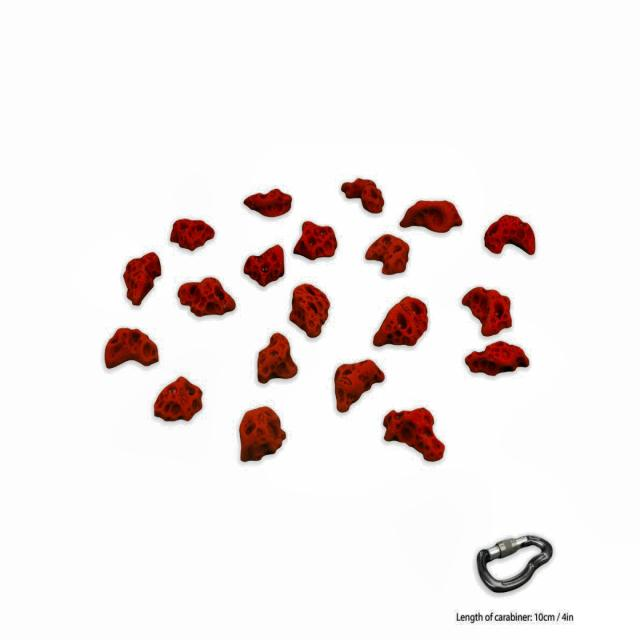Hold: (383, 402, 446, 462), (331, 356, 386, 415), (98, 327, 164, 376), (459, 284, 518, 337), (237, 400, 282, 467), (467, 336, 532, 380), (480, 213, 539, 260), (372, 296, 432, 342), (117, 250, 163, 310), (177, 269, 234, 317), (147, 377, 205, 422), (256, 329, 298, 391), (290, 282, 331, 340), (401, 198, 465, 235), (363, 233, 416, 276), (334, 178, 392, 216), (292, 220, 340, 264), (164, 215, 218, 253), (245, 240, 288, 286), (241, 183, 292, 216)
